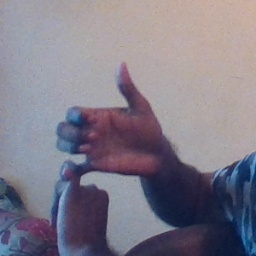S: (37, 58, 166, 225)
